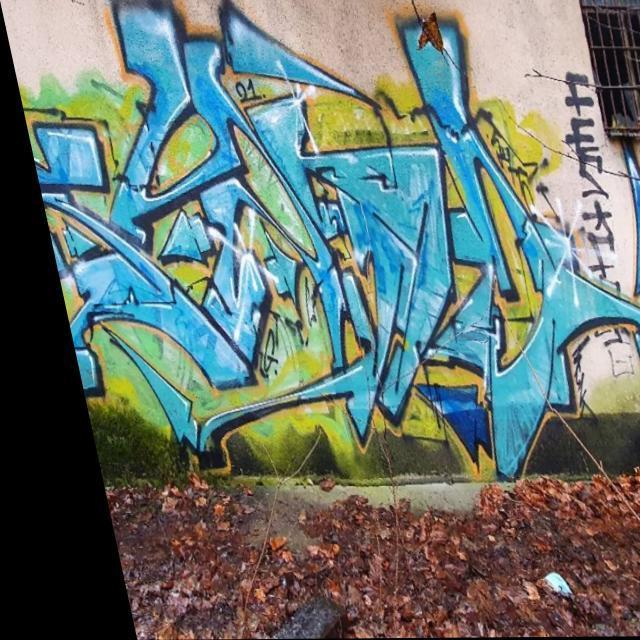-: (0, 0, 640, 486), (526, 49, 640, 394)
